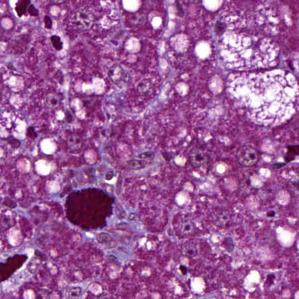ballooning: (224, 67, 295, 131), (210, 14, 282, 75)
